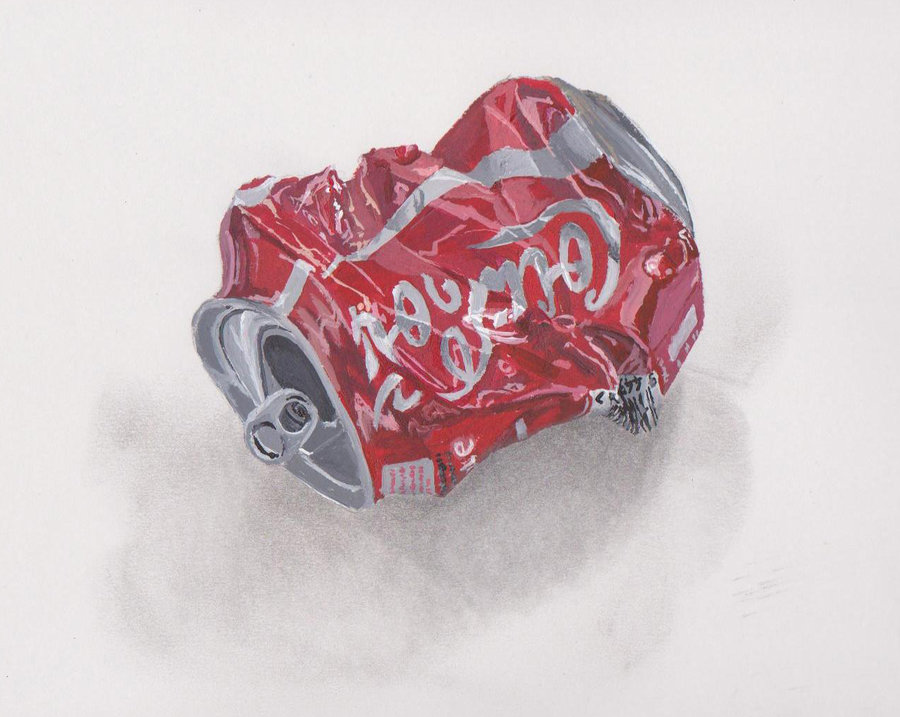can: (187, 73, 710, 519)
